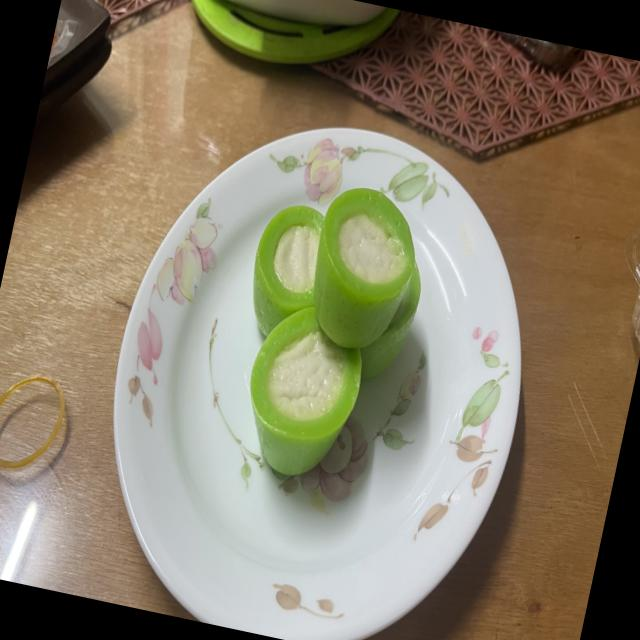nona-manis: (250, 306, 361, 475), (313, 187, 414, 349), (252, 205, 323, 336), (360, 263, 420, 378)
